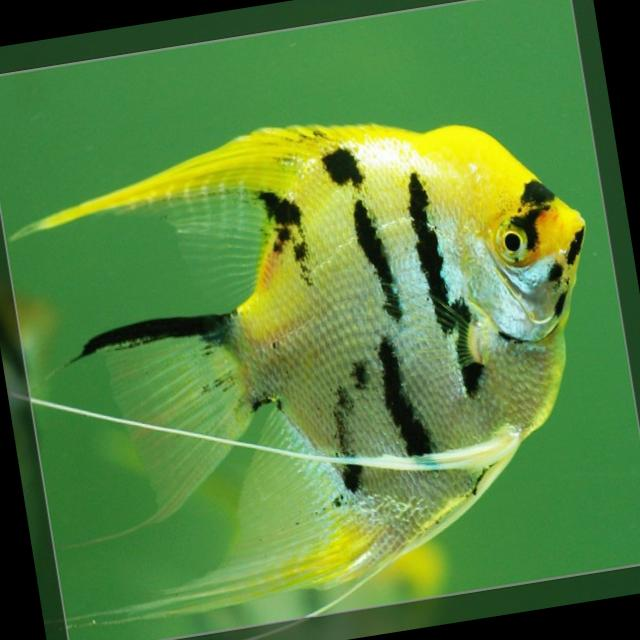AngelFish: (0, 77, 632, 638)
